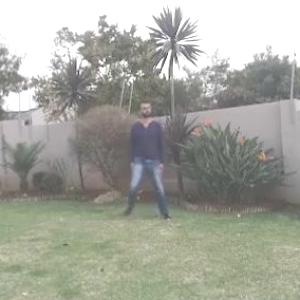follow: (130, 93, 167, 219)
